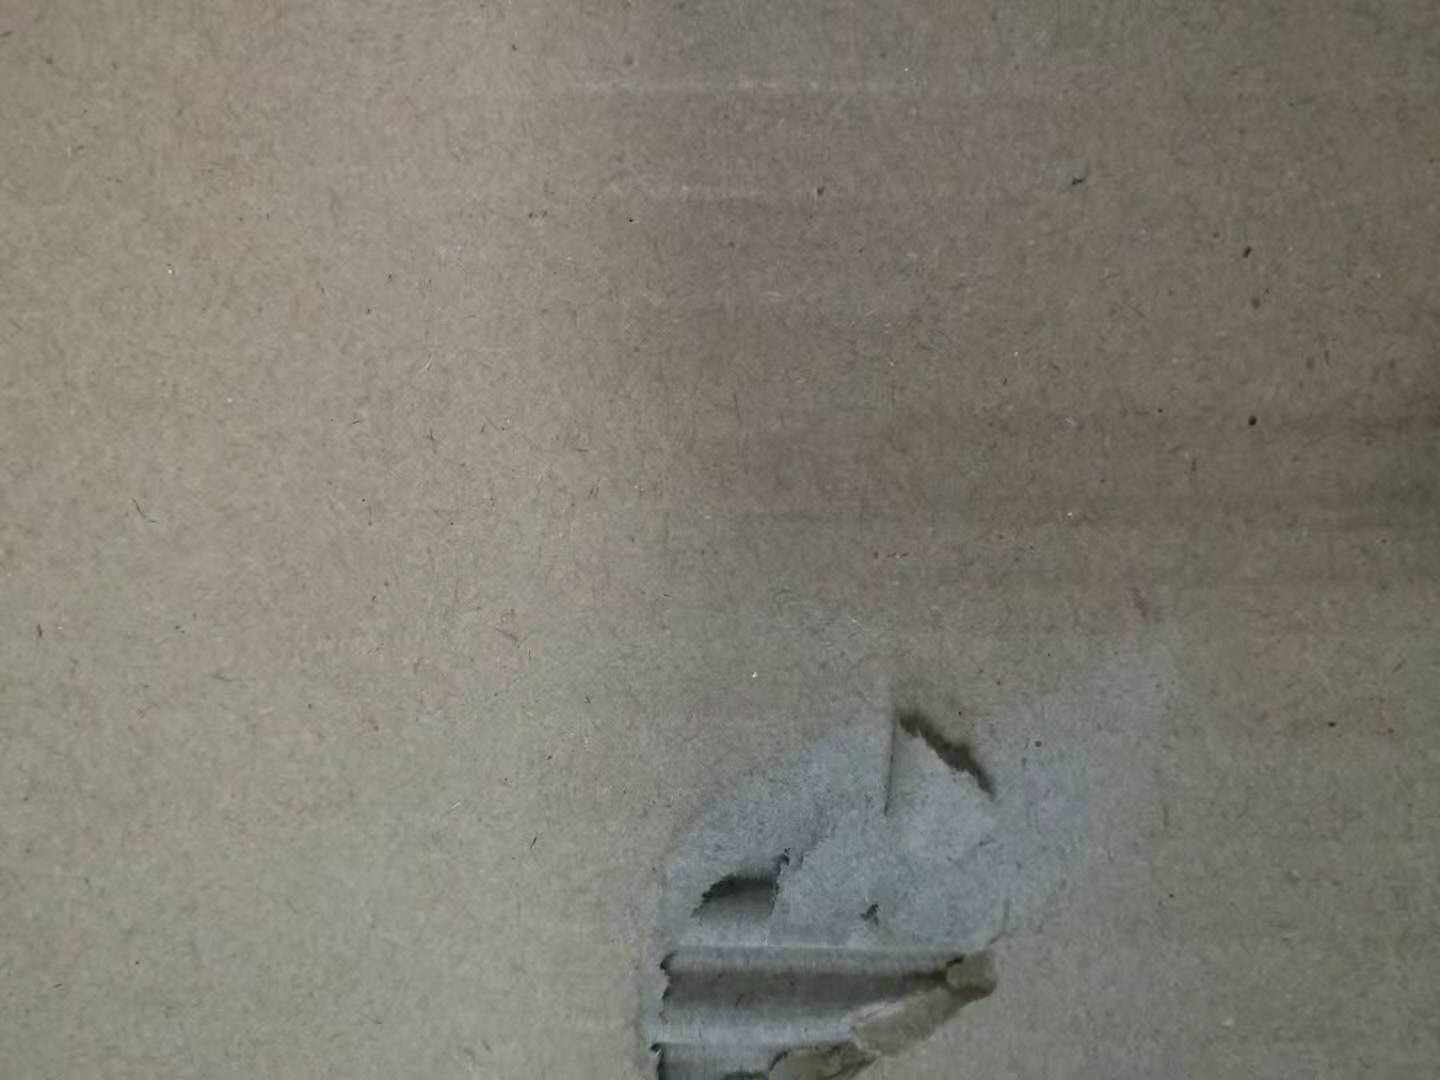defect: (556, 551, 1226, 1080)
